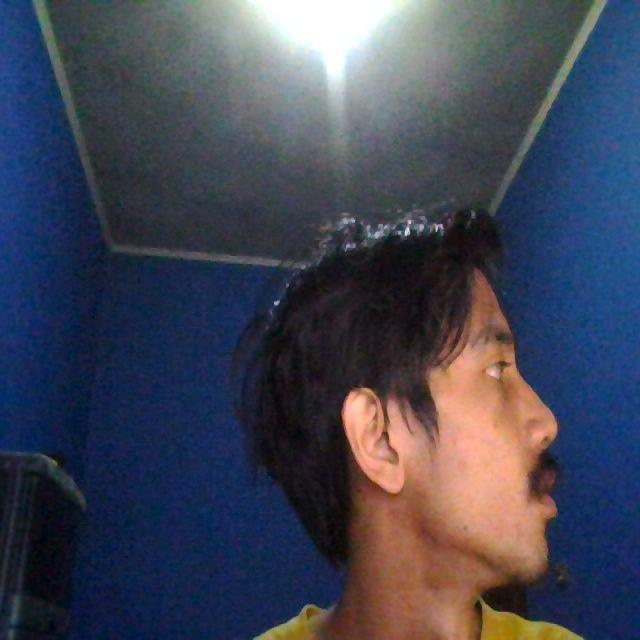melihat kekiri: (185, 145, 591, 617)
